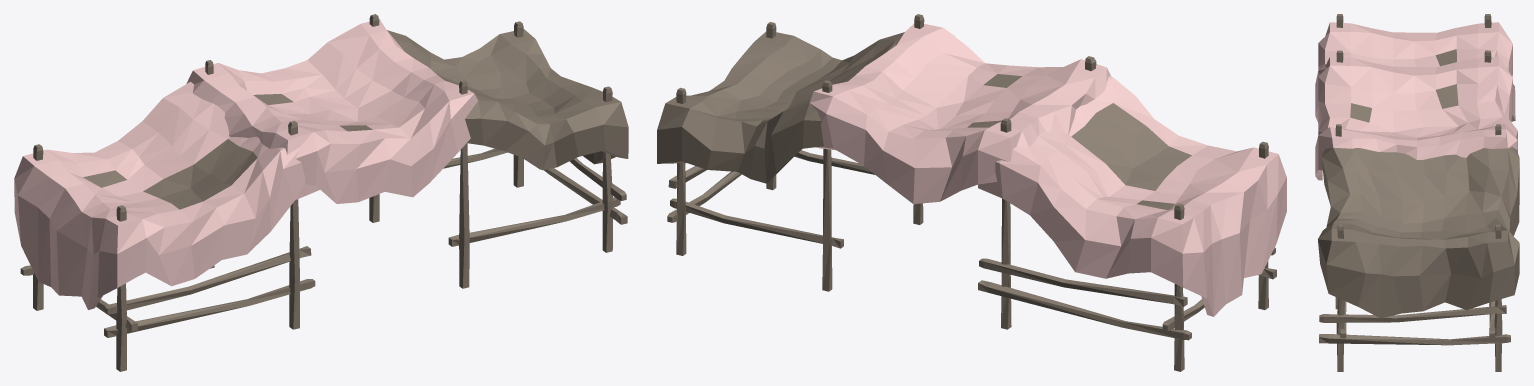
The model's file is SM_Bld_Tent_04.glb.
3 renders of one model, left to right at view 1: azimuth 30°, elevation 25°; view 2: azimuth 150°, elevation 25°; view 3: azimuth 270°, elevation 25°, orthographic. The views are drawn at different scales.
Visible parts, largest first — view 1: SM_Bld_Tent_04_00; view 2: SM_Bld_Tent_04_00; view 3: SM_Bld_Tent_04_00.
Boxes of the visible parts, x1,y1,x2,y2 form: SM_Bld_Tent_04_00: (14,14,628,371); SM_Bld_Tent_04_00: (657,14,1286,371); SM_Bld_Tent_04_00: (1315,14,1519,371).
Size of the model in its own units: 7.59 by 2.8 by 2.85.
Materials: 1 (1 with a texture image).
